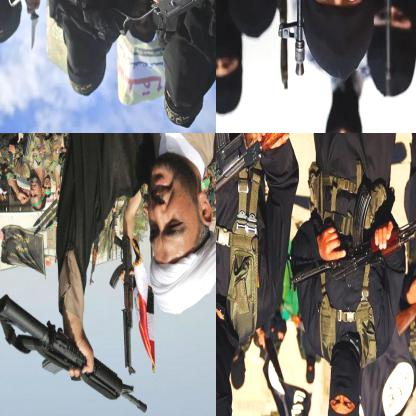rifle: (0, 294, 147, 415), (286, 187, 415, 297), (216, 133, 313, 241), (276, 0, 399, 78), (394, 206, 415, 336), (17, 133, 45, 159)
